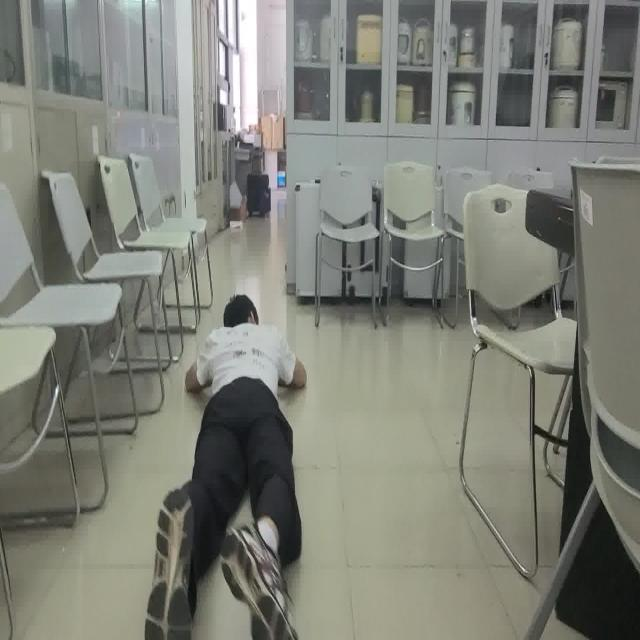Fall-Detected: (143, 293, 310, 640)
